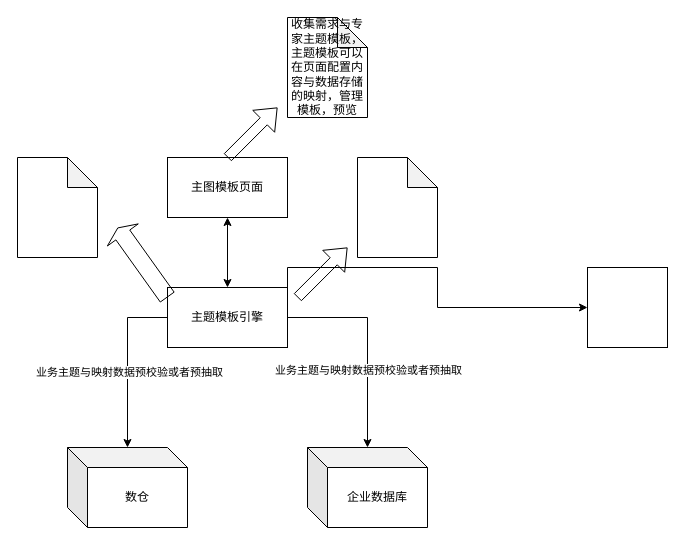
The diagram is 685 pixels wide and 545 high, and some of its shapes have lost their labels. The centre of each missing label's shape, as x and y in pixels:
"存储组成模板的片段" belongs at [627,307].
"生成主题模板：由主题服务实现，服务是代码和sql组成" belongs at [397,207].
"高频查询内容抽取参考生成模板" belongs at [57,207].
